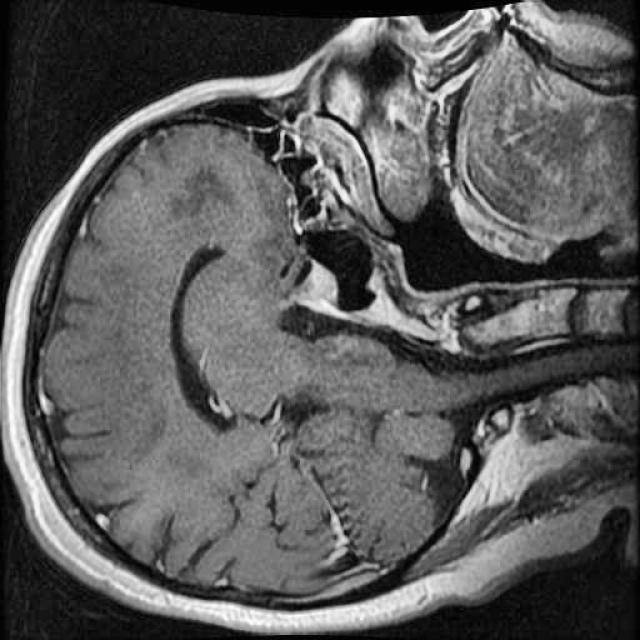Tumor: (271, 244, 338, 329)
